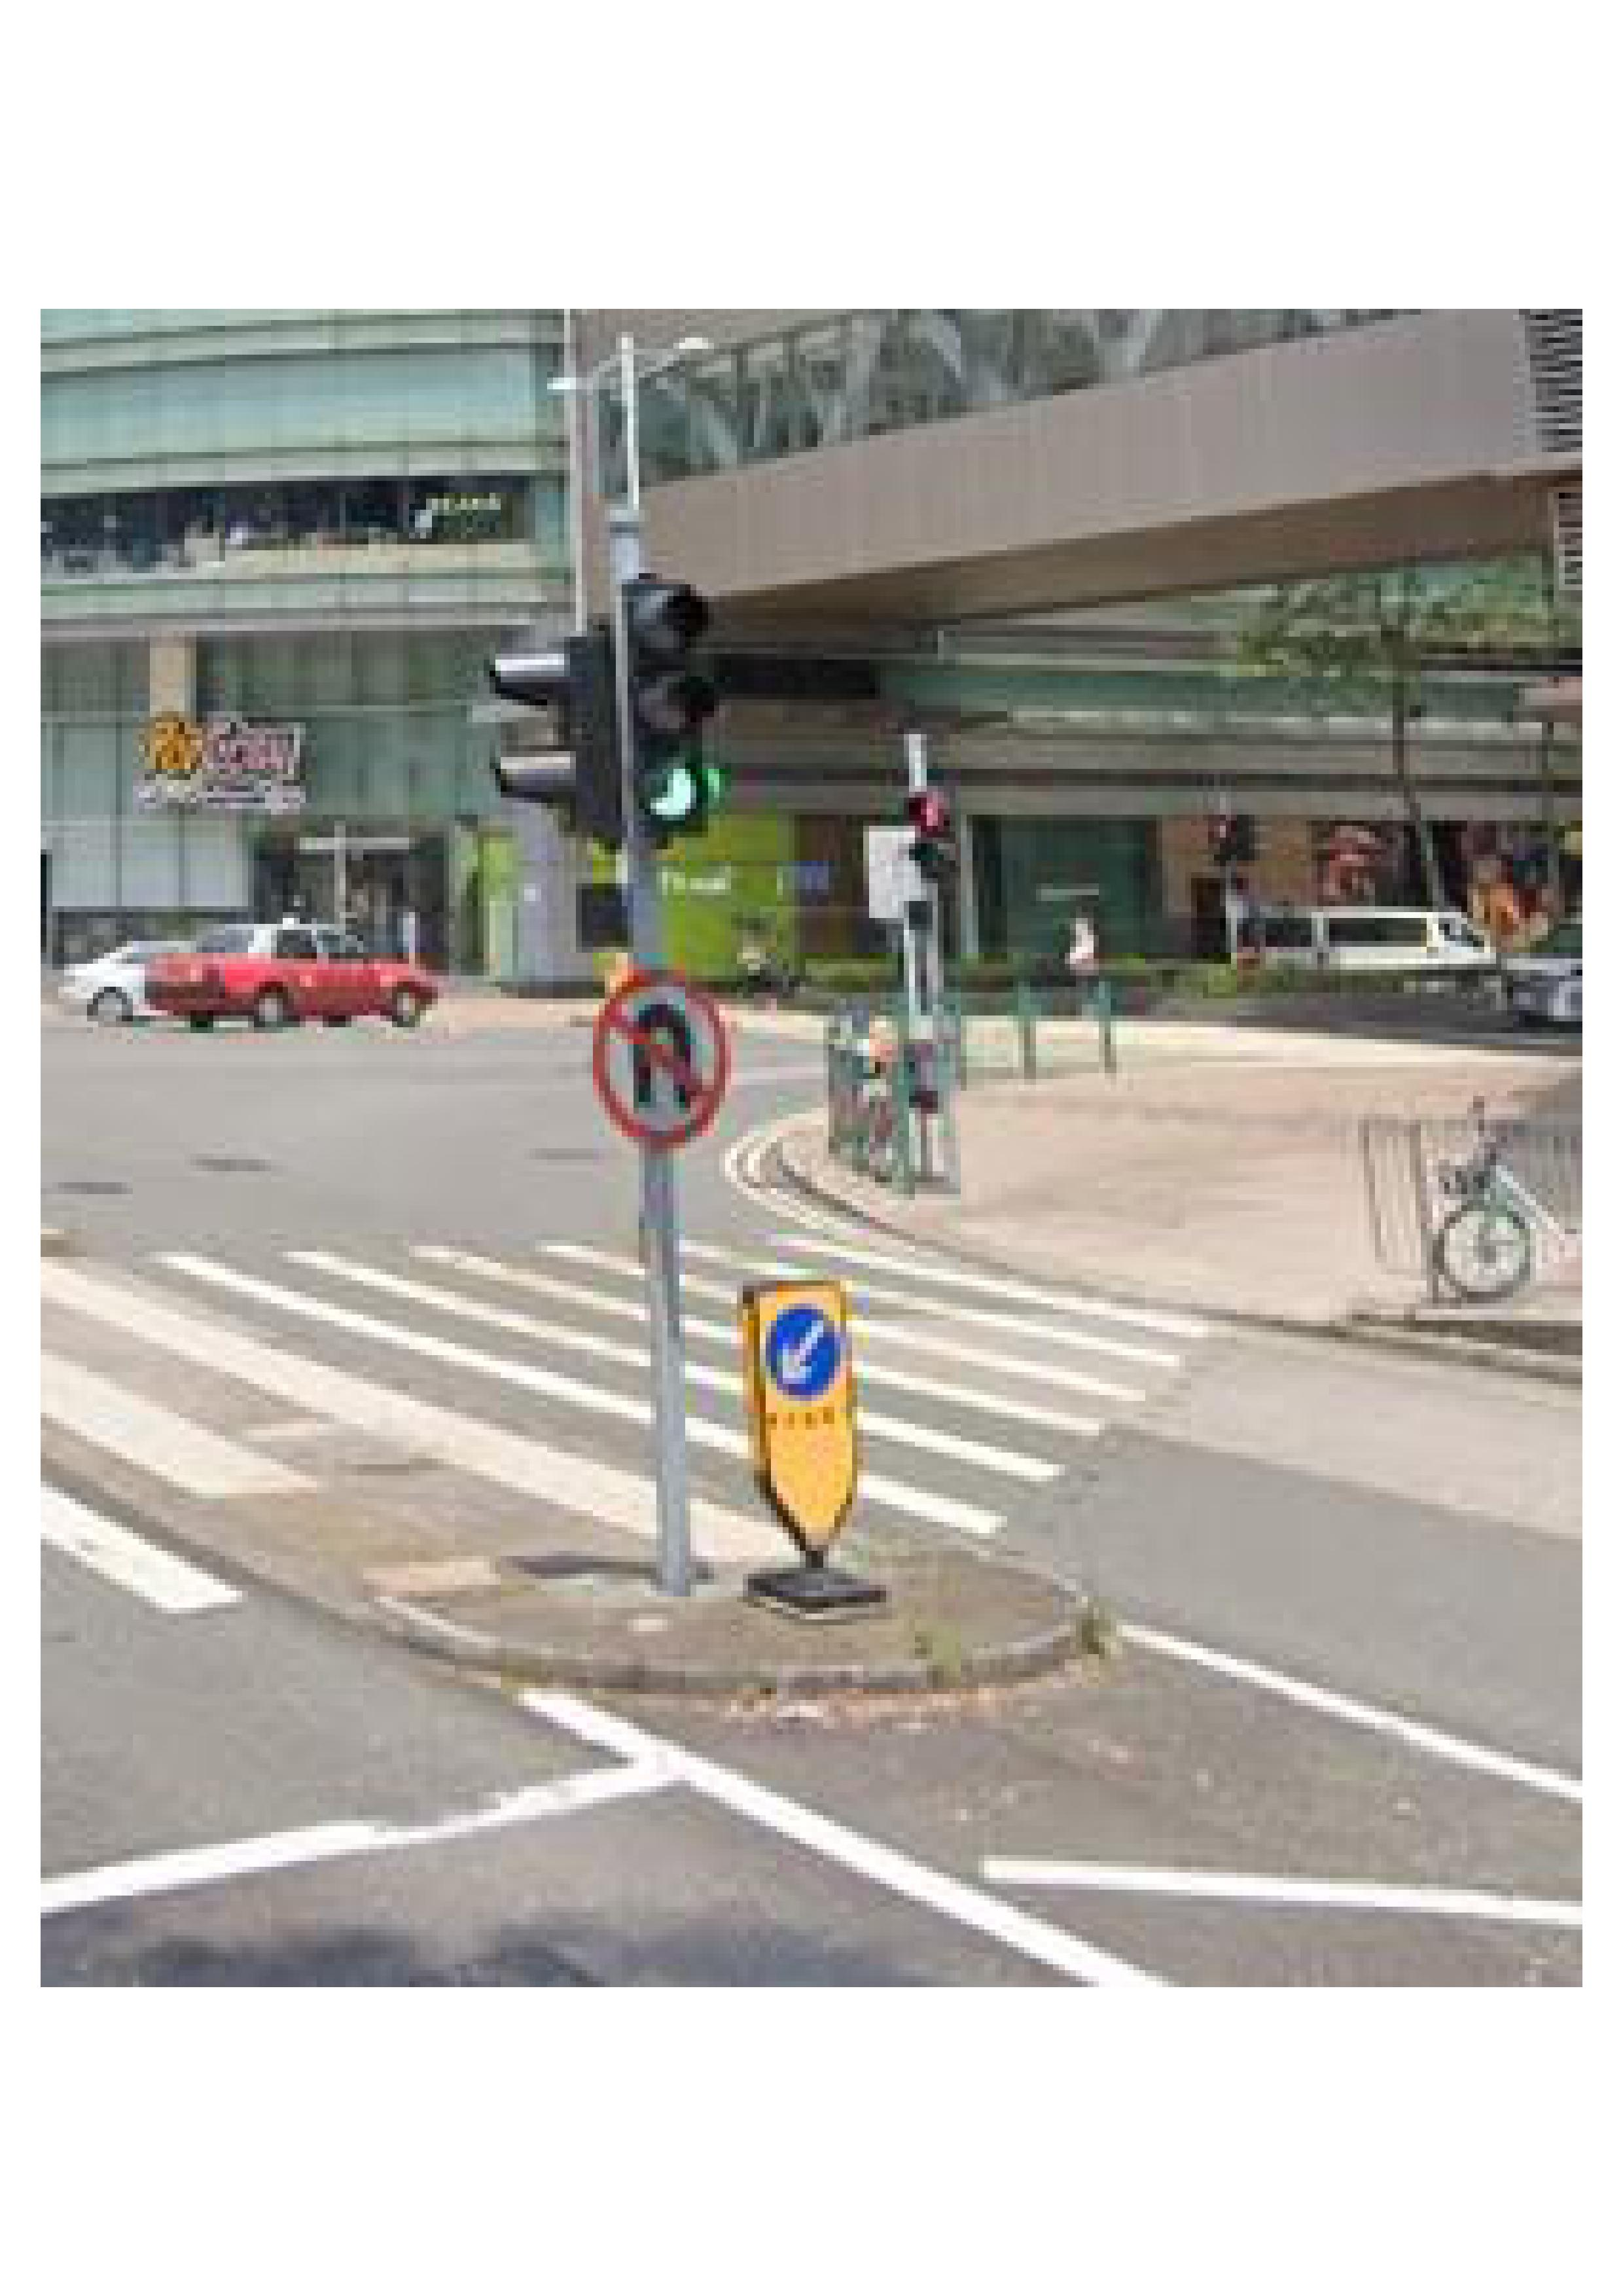No Uturn: (578, 962, 741, 1137)
